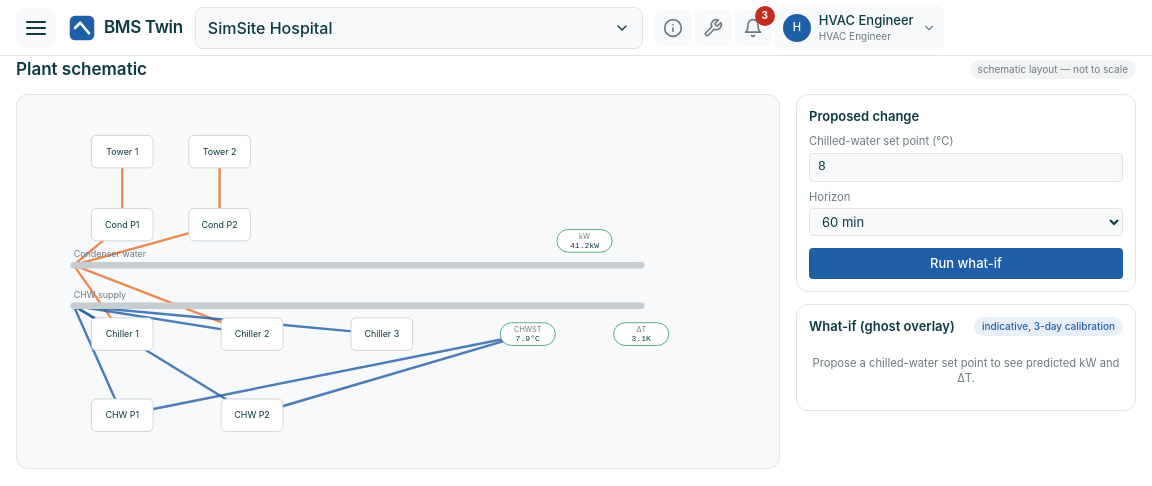
Test case: PlantSchematic what-if overlay (WIF1) › surfaces a simulator error without losing the label
Click the button "Run what-if" at (966,264), box [809,248,1123,279]
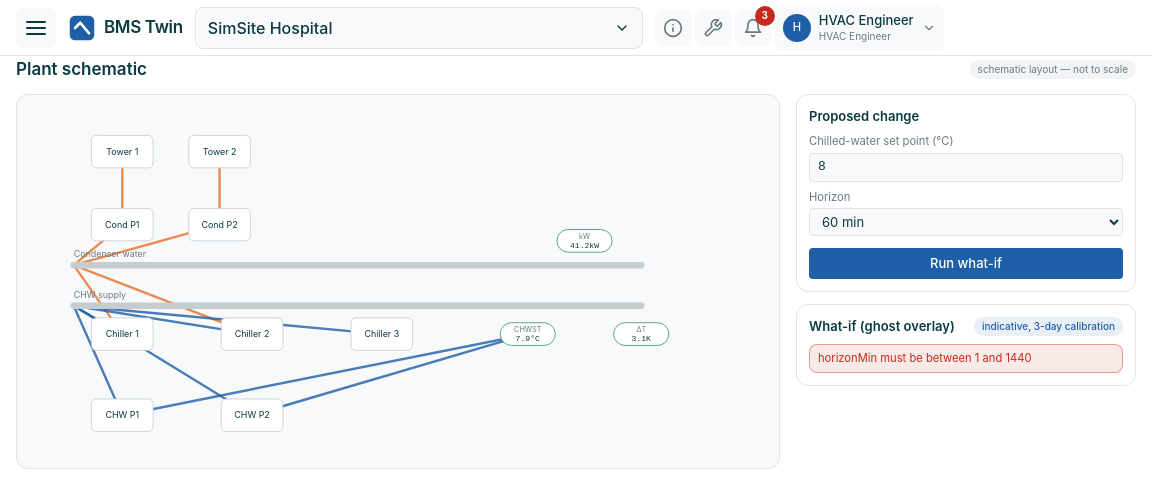
Expected: the text with test id "whatif-label" reads "indicative, 3-day calibration", [982,320,1115,332]
Expected: the text with test id "whatif-error" shows "horizonMin", [818,351,1032,365]
